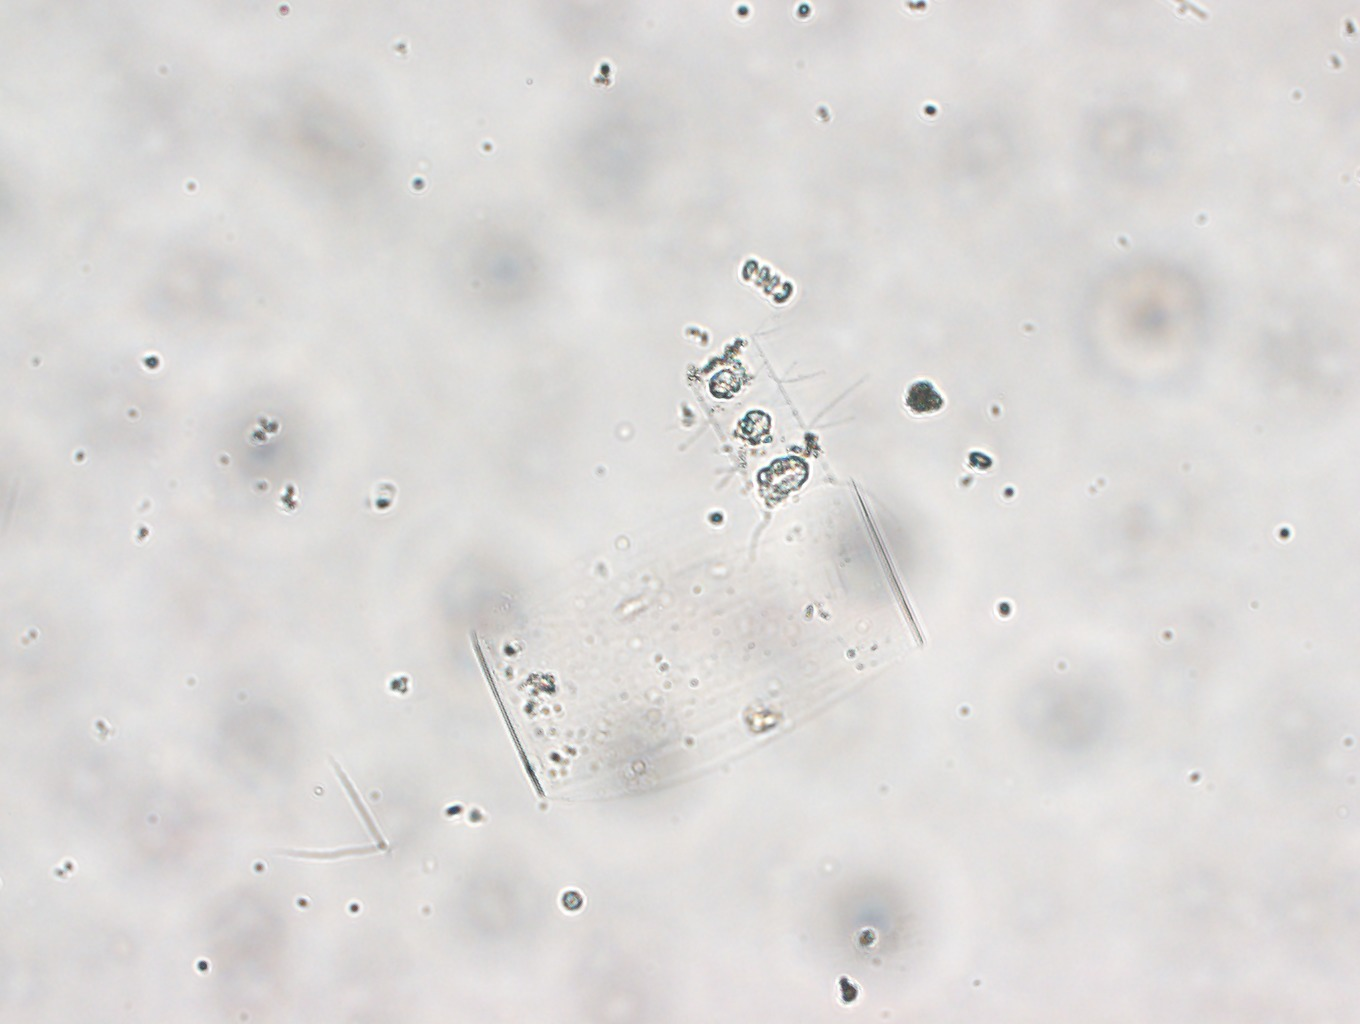chaetoceros: (652, 305, 867, 564)
